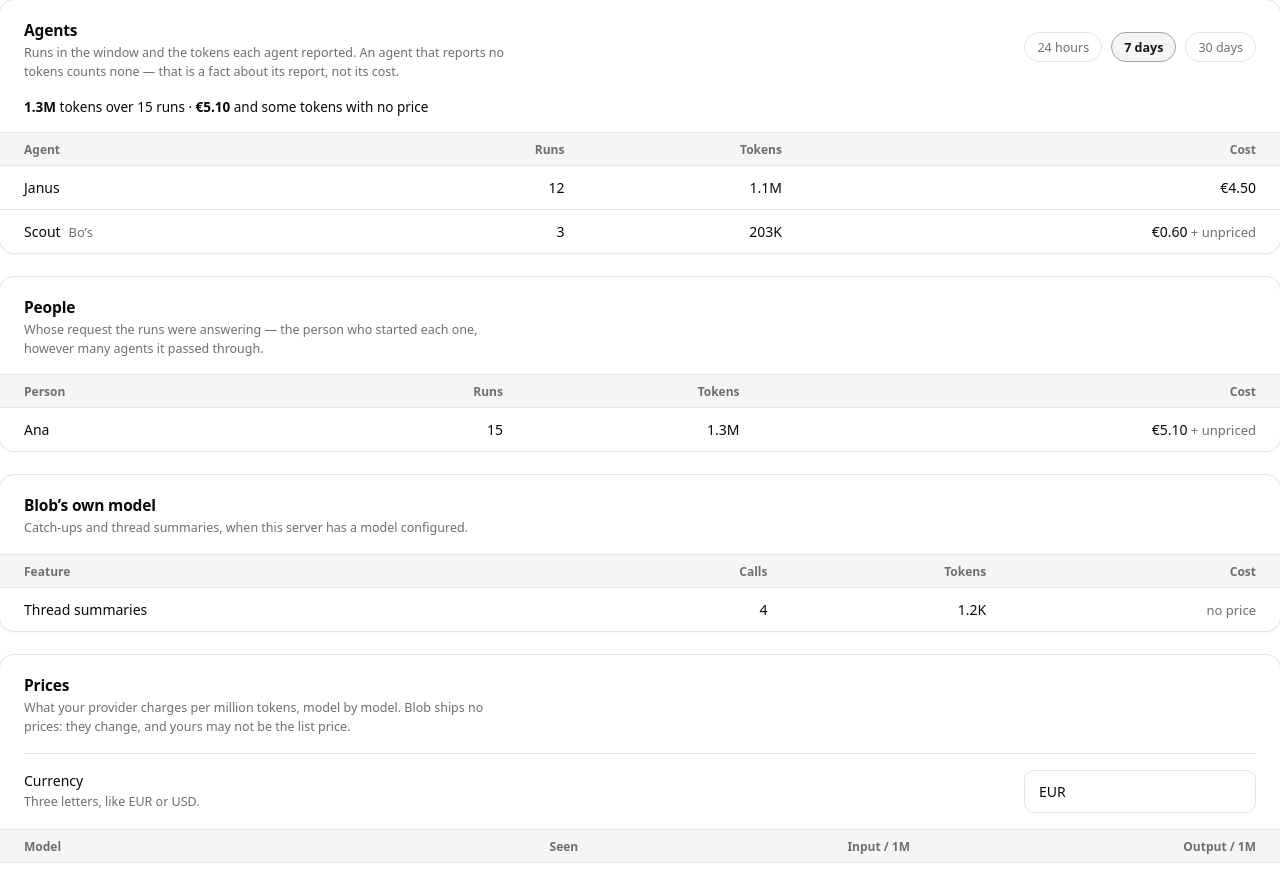
the price list › takes a currency as three capital letters
In the field labelled "Currency Three letters, like EUR or USD.": (1140, 791) [1024,770,1256,813], type "us$d"
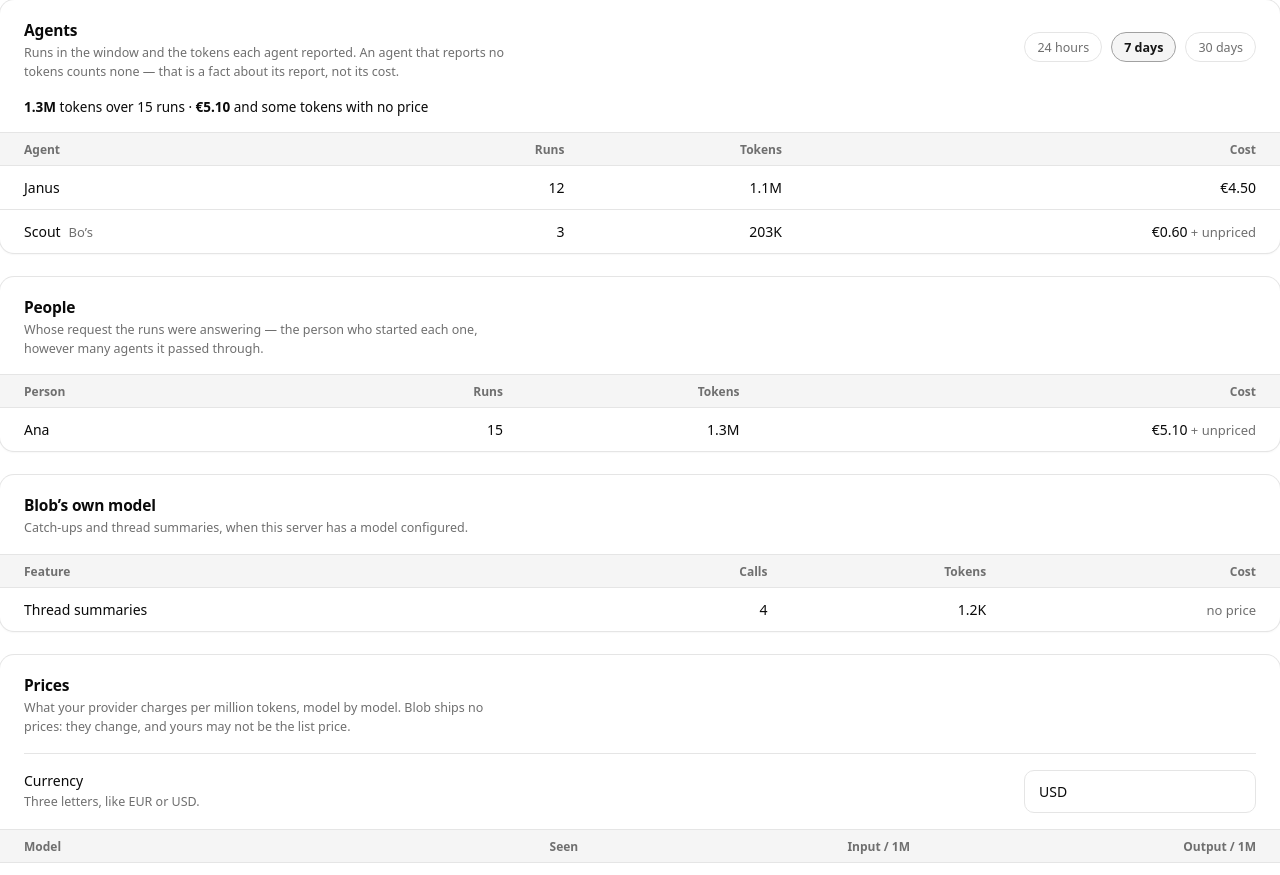
expect the field labelled "Currency Three letters, like EUR or USD." holds "USD": met, box [1024,770,1256,813]
